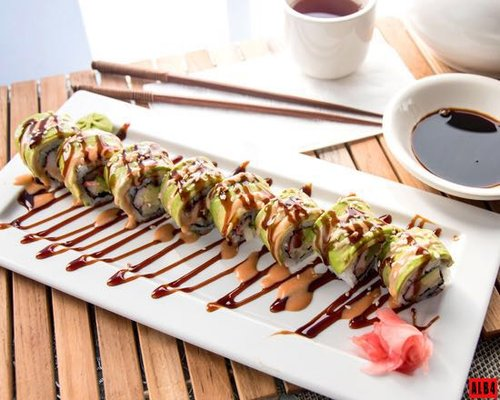pizza: (283, 0, 378, 81)
